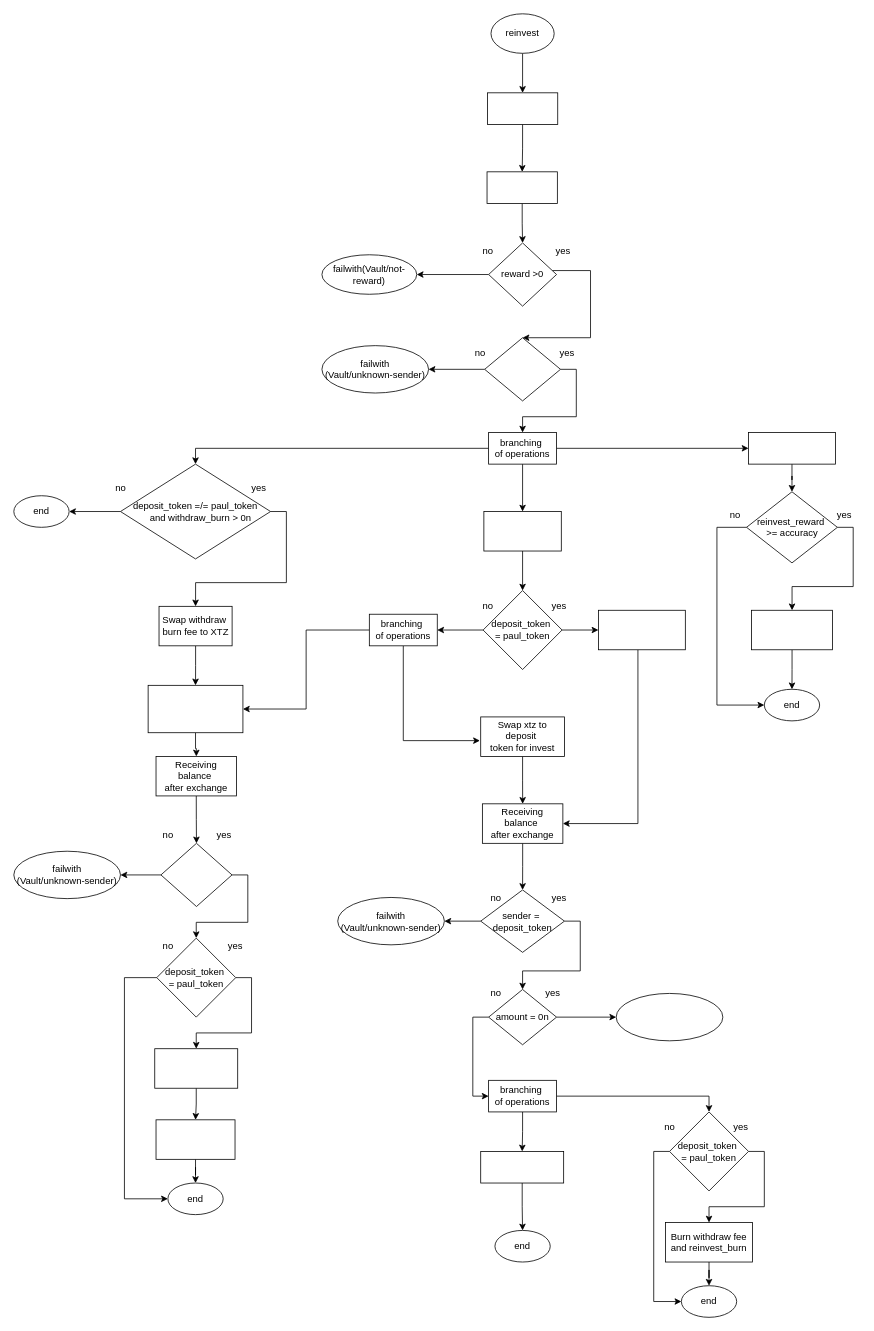
Image size: 874x1331. Some labels were removed from this diagram. The centre of each missing label's shape, as x and y in pixels:
"amount - fee_balances.dev" belongs at [196,1068].
"burn paul tokens" belongs at [195,1139].
"Calculate reward for method call" belongs at [791,448].
"failwith (Vault/zero-reinvest)" belongs at [669,1017].
"get reward amount" belongs at [521,187].
"harvest" belongs at [522,108].
"invest deposit token to farm" belongs at [522,1167].
"Paying a reward for a method call" belongs at [792,629].
"sender = paul_token" belongs at [196,875].
"sender = reward_token" belongs at [522,369].
"Swap reward token to XTZ" belongs at [522,531].
"Swap xtz to Paul for burning" belongs at [195,709].
"Swap xtz to Paul for burning and invest" belongs at [641,629].
